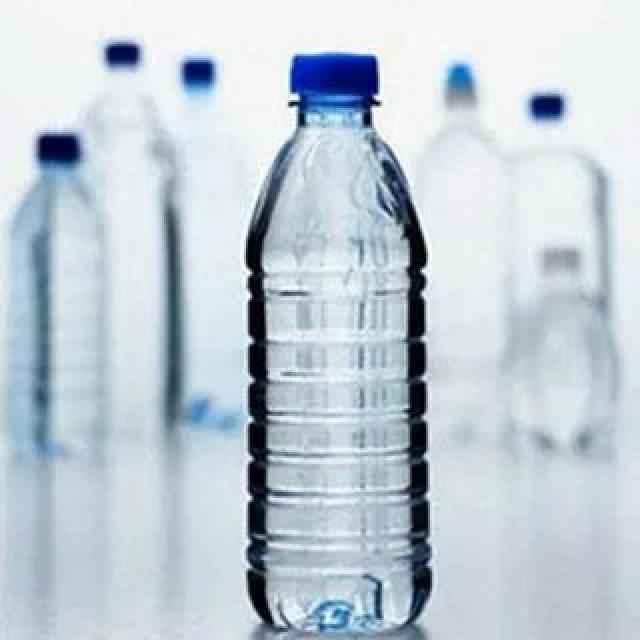blue: (245, 97, 432, 635)
